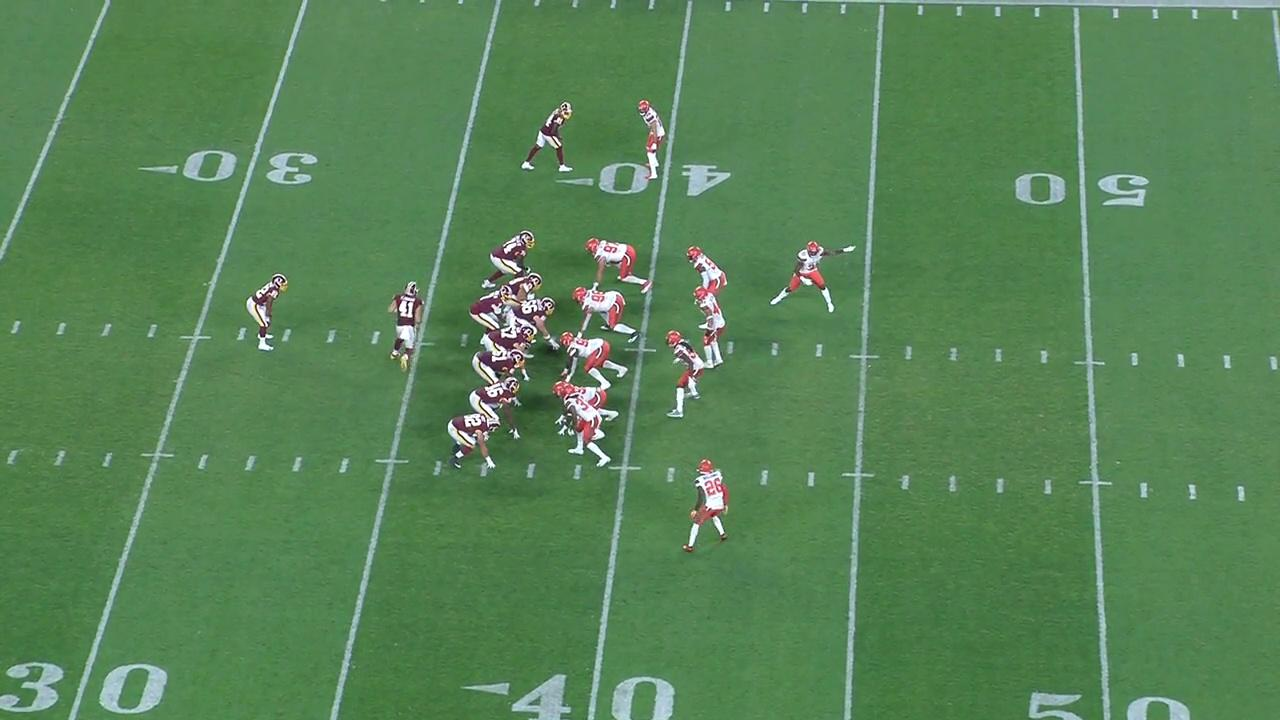player: (767, 240, 857, 317), (680, 457, 731, 555), (559, 384, 613, 468), (559, 330, 629, 393), (550, 381, 621, 443), (521, 100, 577, 177), (570, 286, 640, 347), (684, 243, 731, 331), (584, 236, 653, 295), (243, 272, 292, 355), (663, 328, 707, 420), (386, 280, 427, 374), (468, 374, 522, 442), (480, 229, 537, 293), (442, 412, 501, 473), (471, 348, 527, 410), (505, 296, 561, 353), (691, 285, 727, 372), (482, 323, 535, 382), (467, 285, 513, 346), (638, 98, 665, 187), (497, 271, 545, 320)
